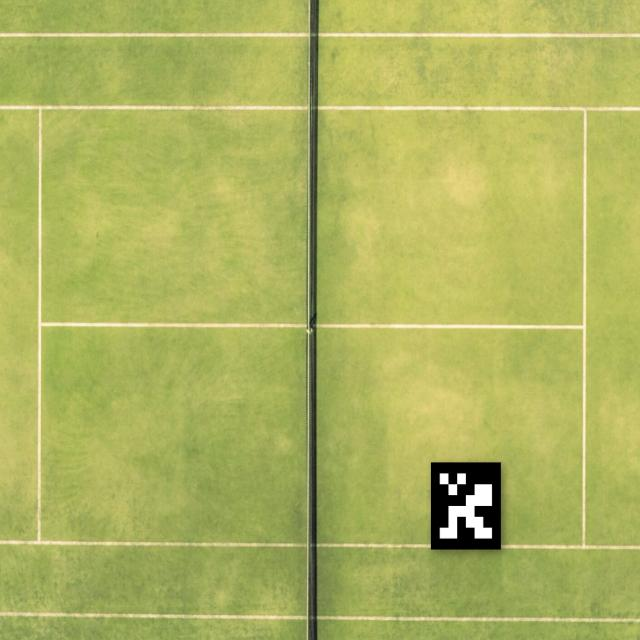marker: (422, 451, 512, 556)
